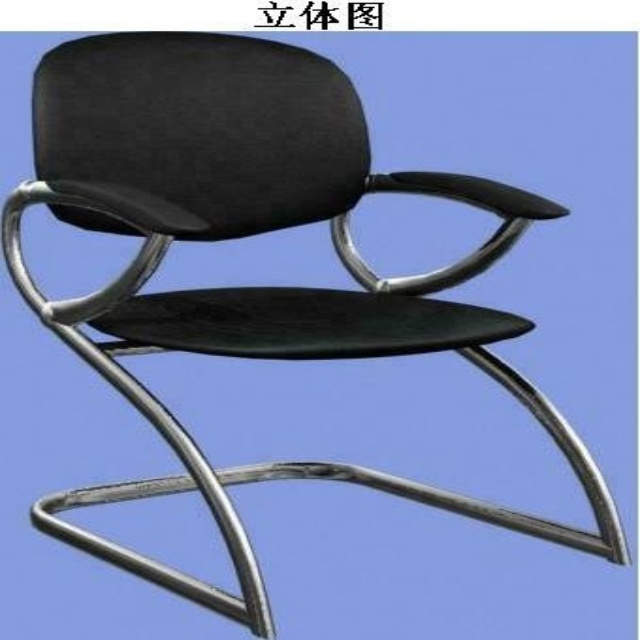obstacle: (252, 32, 634, 547), (2, 272, 256, 639), (119, 352, 593, 528), (230, 482, 632, 639), (143, 222, 358, 291), (2, 32, 79, 195), (23, 206, 141, 298)
